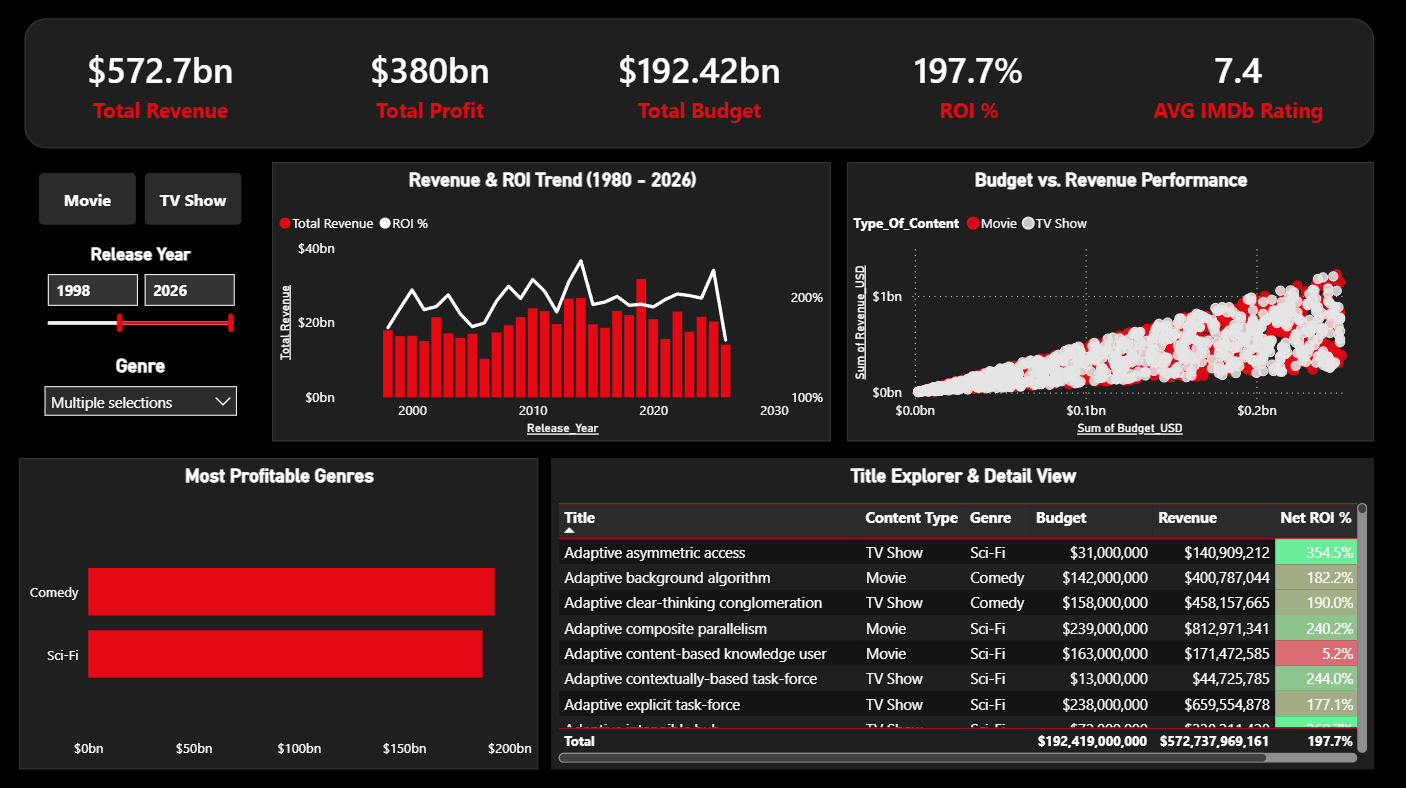

The dashboard page shown, as its layout file describes it:
{"tool":"powerbi","page":{"name":"Content ROI & Financial Performance Executive Report","canvas":[1280,720],"ordinal":0},"visuals":[{"type":"cardVisual","fields":{"Data":["_Measures.Total Revenue","_Measures.Total Profit","_Measures.Total Budget","_Measures.ROI %","_Measures.AVG TMDb Rating","_Measures.AVG IMDb Rating"]},"box":[21.9,19.8,1236.3,128.1],"z":0},{"type":"slicer","title":"Type of Content","fields":{"Values":["Dim_Content_Metadata.Type_Of_Content"]},"box":[21.9,147.9,236.4,62.5],"z":1000},{"type":"slicer","title":"Genre","fields":{"Values":["Dim_Content_Metadata.Genre"]},"box":[37.5,223.9,206.2,88.5],"z":2000},{"type":"slicer","title":"Release Year","fields":{"Values":["Dim_Content_Metadata.Release_Year"]},"box":[37.5,312.4,206.2,88.5],"z":3000},{"type":"scatterChart","fields":{"X":["Sum(Fact_Content_Performance.Budget_USD)"],"Y":["Sum(Fact_Content_Performance.Revenue_USD)"],"Category":["Fact_Content_Performance.content_id"],"Series":["Dim_Content_Metadata.Type_Of_Content"]},"box":[267.7,147.9,410.3,253.1],"z":4000},{"type":"clusteredBarChart","fields":{"Category":["Dim_Content_Metadata.Genre"],"Y":["_Measures.Total Profit"]},"box":[787.8,147.8,459.3,253.1],"z":5000},{"type":"lineClusteredColumnComboChart","fields":{"Category":["Dim_Content_Metadata.Release_Year"],"Y":["_Measures.Total Revenue"],"Y2":["_Measures.ROI %"]},"box":[37.5,433.3,568.7,253.1],"z":6000},{"type":"tableEx","fields":{"Values":["Dim_Content_Metadata.title","Dim_Content_Metadata.Type_Of_Content","Dim_Content_Metadata.Genre","Sum(Fact_Content_Performance.Budget_USD)","Sum(Fact_Content_Performance.Revenue_USD)","_Measures.ROI %","Sum(Fact_Content_Performance.Imdb_Rating)"]},"box":[616.7,432.8,641,252.9],"z":6001}]}

Visuals, with their boxes in screenshot pixels (x1, y1, x2, y2), scaled from the page's 1280x720 canvas onto the 1406x788 screenshot:
cardVisual - _Measures.Total Revenue x _Measures.Total Profit: {"x1": 24, "y1": 22, "x2": 1382, "y2": 162}
"Type of Content" slicer: {"x1": 24, "y1": 162, "x2": 284, "y2": 230}
"Genre" slicer: {"x1": 41, "y1": 245, "x2": 268, "y2": 342}
"Release Year" slicer: {"x1": 41, "y1": 342, "x2": 268, "y2": 439}
scatterChart - Sum(Fact_Content_Performance.Budget_USD) x Sum(Fact_Content_Performance.Revenue_USD): {"x1": 294, "y1": 162, "x2": 745, "y2": 439}
clusteredBarChart - Dim_Content_Metadata.Genre x _Measures.Total Profit: {"x1": 865, "y1": 162, "x2": 1370, "y2": 439}
lineClusteredColumnComboChart - Dim_Content_Metadata.Release_Year x _Measures.Total Revenue: {"x1": 41, "y1": 474, "x2": 666, "y2": 751}
tableEx - Dim_Content_Metadata.title x Dim_Content_Metadata.Type_Of_Content: {"x1": 677, "y1": 474, "x2": 1382, "y2": 750}
